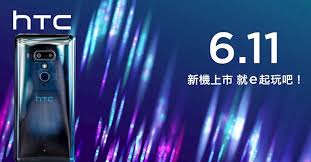htc: (12, 28, 76, 162)
